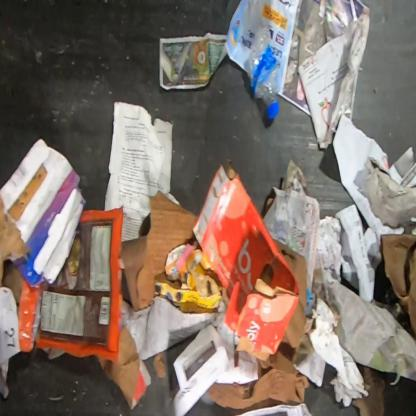cardboard: (192, 158, 300, 369), (154, 241, 230, 314), (363, 155, 415, 236), (352, 362, 386, 416)
rigid_plastic: (247, 25, 281, 120)
soft_plastic: (18, 205, 124, 364), (0, 137, 88, 290)
